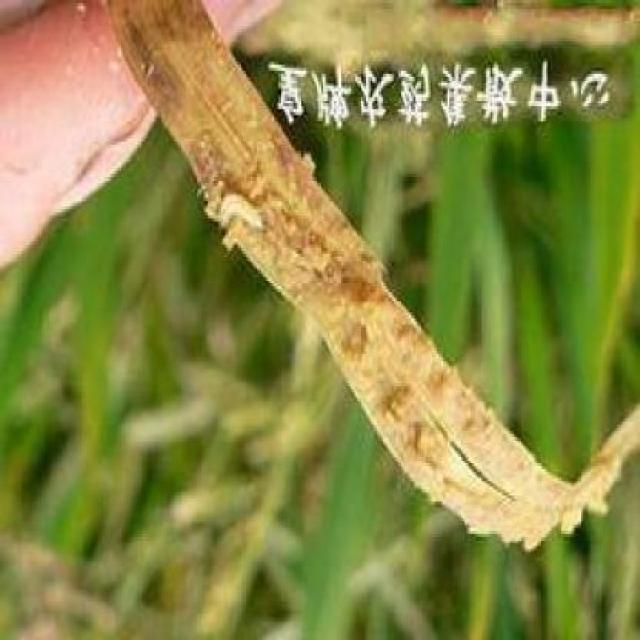whorl-maggot: (214, 178, 271, 250)
